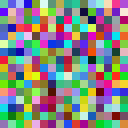helmet: (4, 10, 34, 40), (44, 10, 74, 40), (84, 10, 114, 40)
vest: (10, 60, 50, 100)
